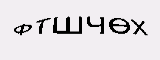Т: (34, 14, 51, 35)
Ф: (12, 22, 32, 36)
Х: (130, 20, 148, 36)
Ч: (86, 15, 106, 36)
Ш: (52, 16, 83, 35)
Ө: (108, 17, 132, 34)
